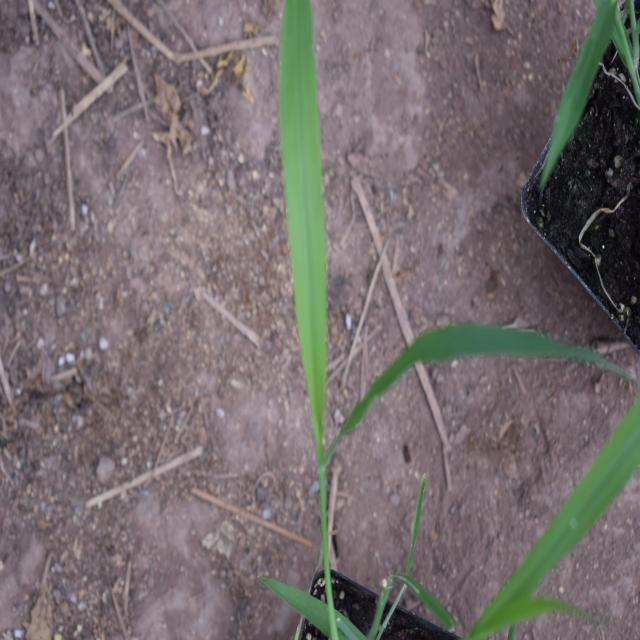crabgrass: (274, 4, 570, 523)
